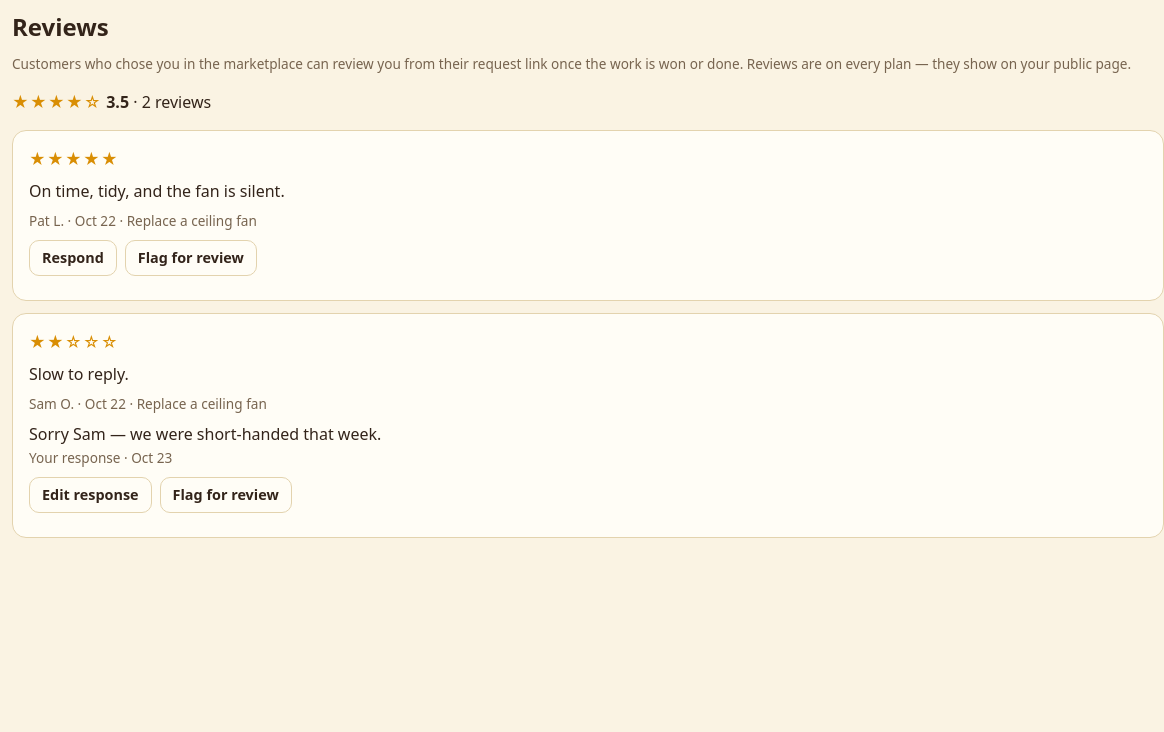
Test: Reviews › responds to a review and shows the saved response
The width and height of the screenshot is (1164, 732).
expect the text "On time, tidy, and the fan is silent." is shown: met, box x1=29 y1=180 x2=285 y2=202
Step 1. Click the button "Respond" → (73, 258), box x1=29 y1=240 x2=117 y2=276
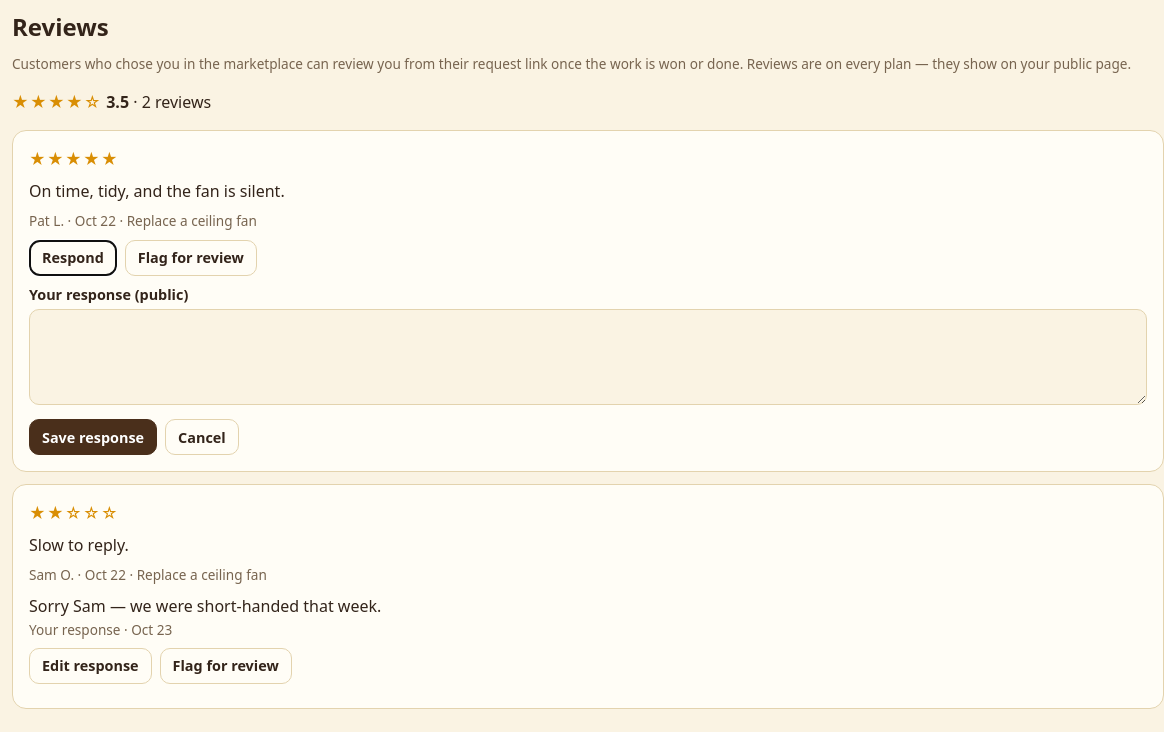
Step 2. Type "Thanks Pat!" into the text box labelled "Your response" → (588, 357), box x1=29 y1=309 x2=1147 y2=405
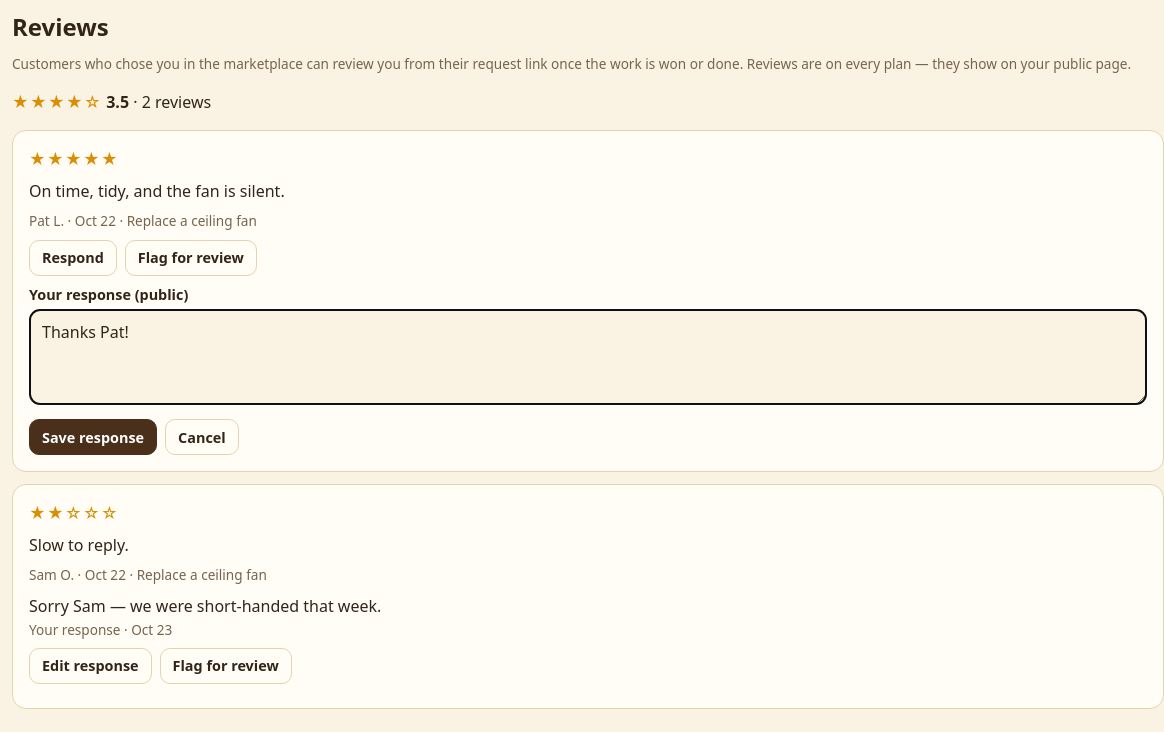
Step 3. Click the button "Save response" → (93, 437), box x1=29 y1=419 x2=157 y2=455
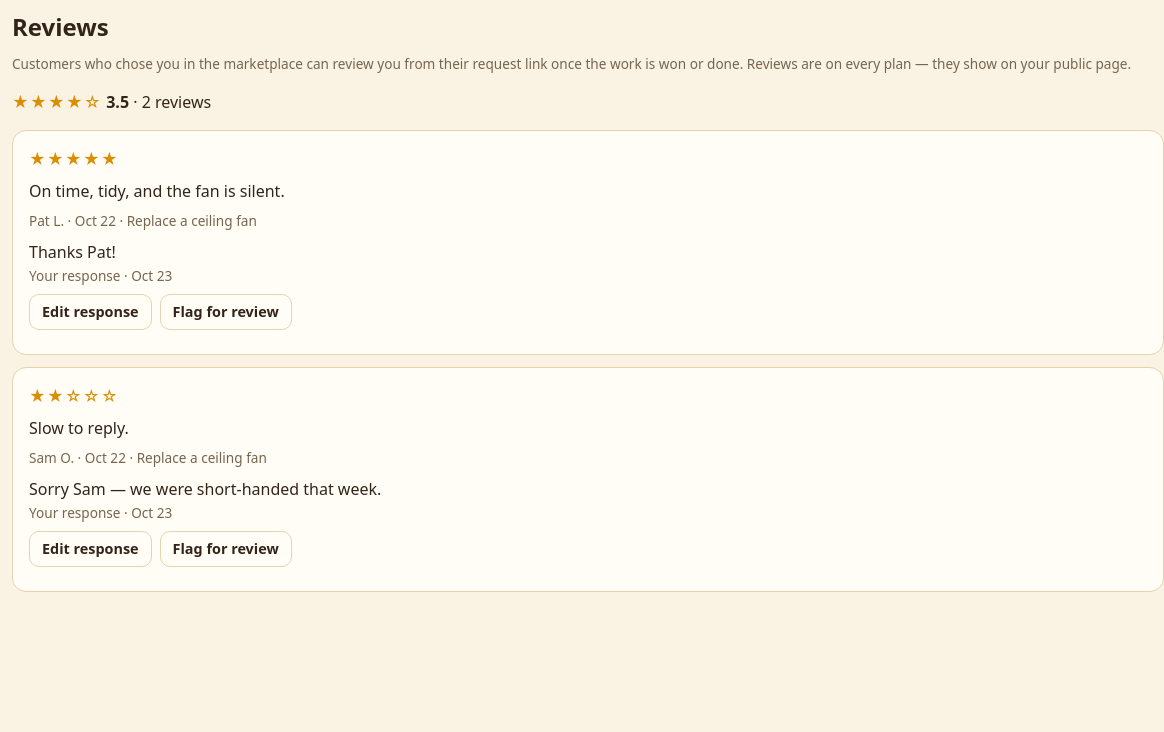
expect the text "Thanks Pat!" is shown: met, box x1=29 y1=241 x2=116 y2=263
expect the number of buttons "Edit response" is 2: met, box x1=29 y1=294 x2=152 y2=330; x1=29 y1=531 x2=152 y2=567
